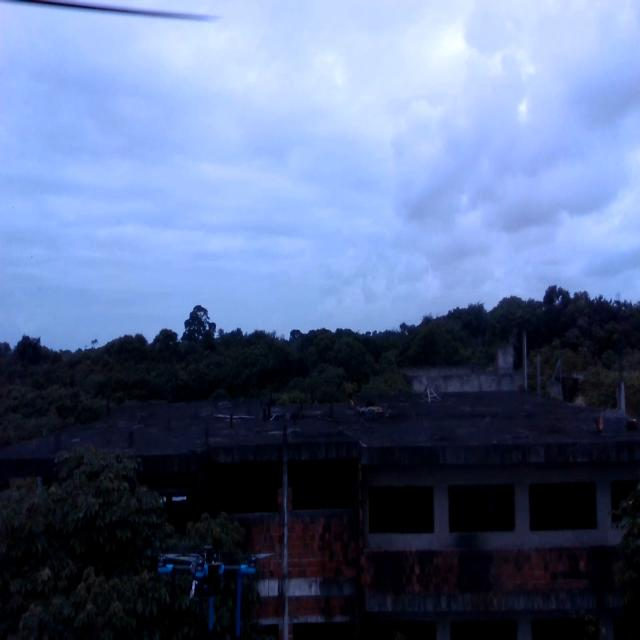-uav-: (153, 527, 280, 640)
